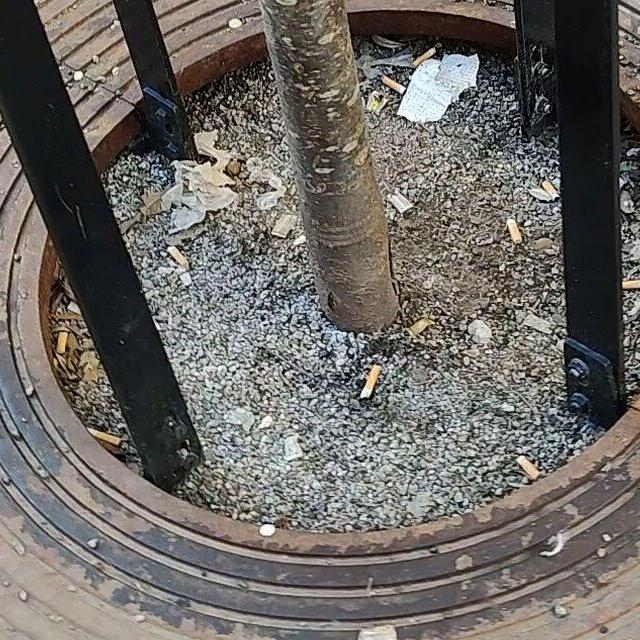Cigarette Butt: (518, 453, 543, 480), (406, 44, 436, 66), (379, 73, 407, 94), (91, 429, 123, 447), (406, 320, 431, 343), (362, 363, 377, 401), (503, 217, 524, 244), (169, 241, 187, 268), (539, 180, 558, 201), (618, 274, 640, 285), (59, 328, 68, 354)
